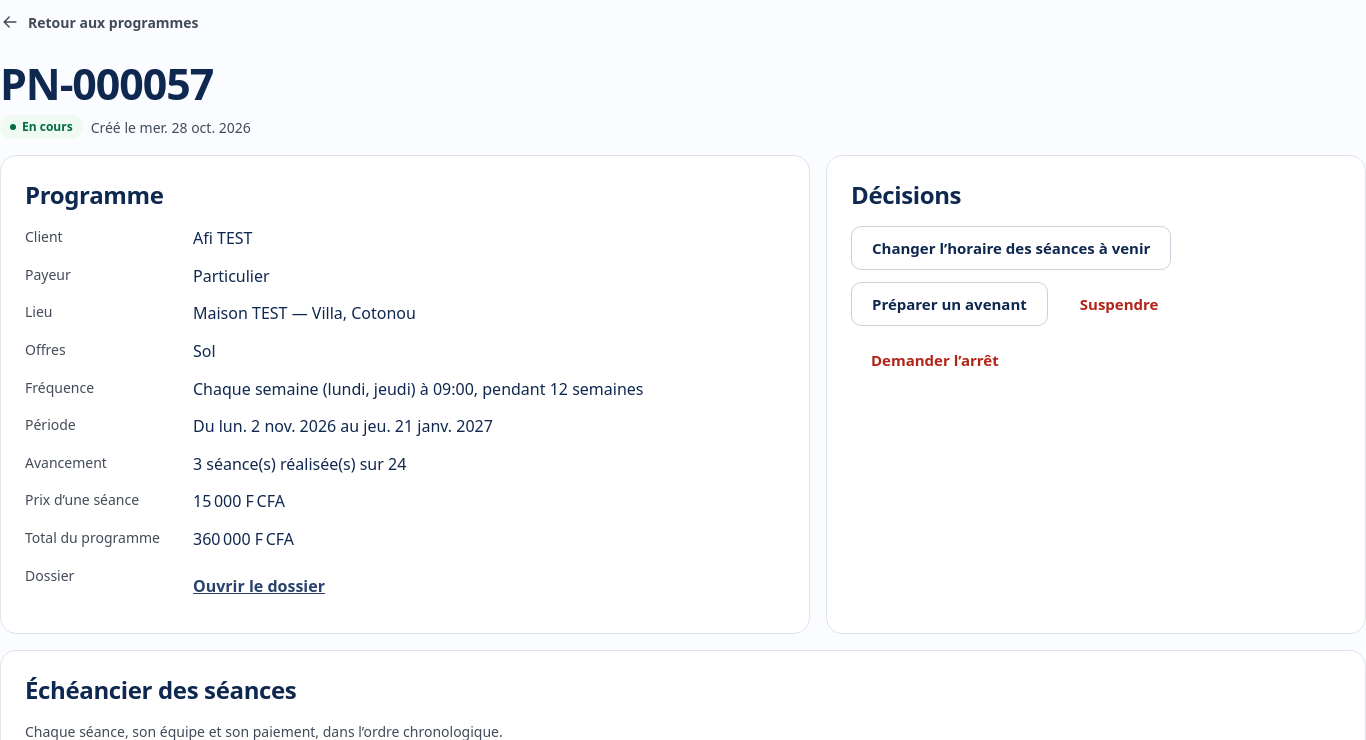
Test: programmes : décisions › suspension confirmée avec motif ; nouvel essai avec la même clé
This screenshot has width=1366, height=740.
Click the button "Suspendre".
click(1119, 304)  # box [1060, 282, 1178, 326]
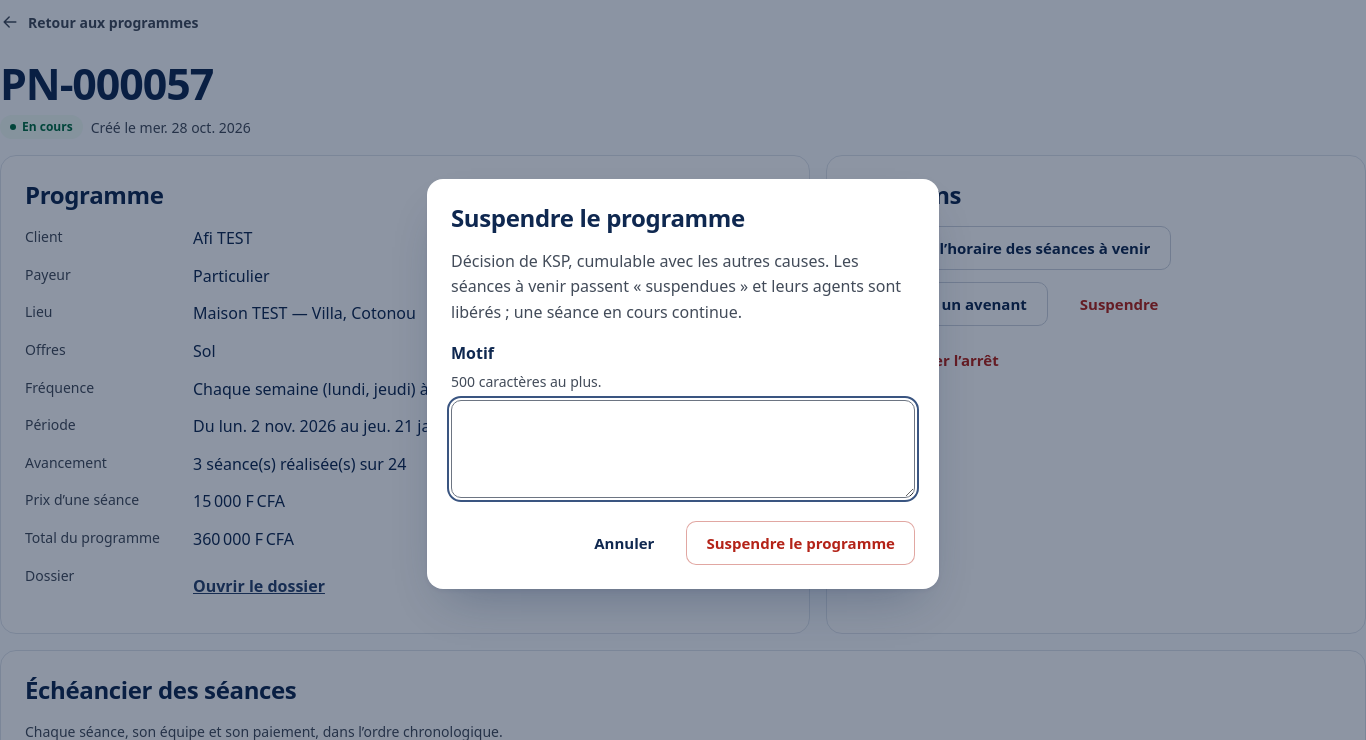
Click the button "Suspendre le programme".
click(801, 544)  # box [686, 522, 915, 566]
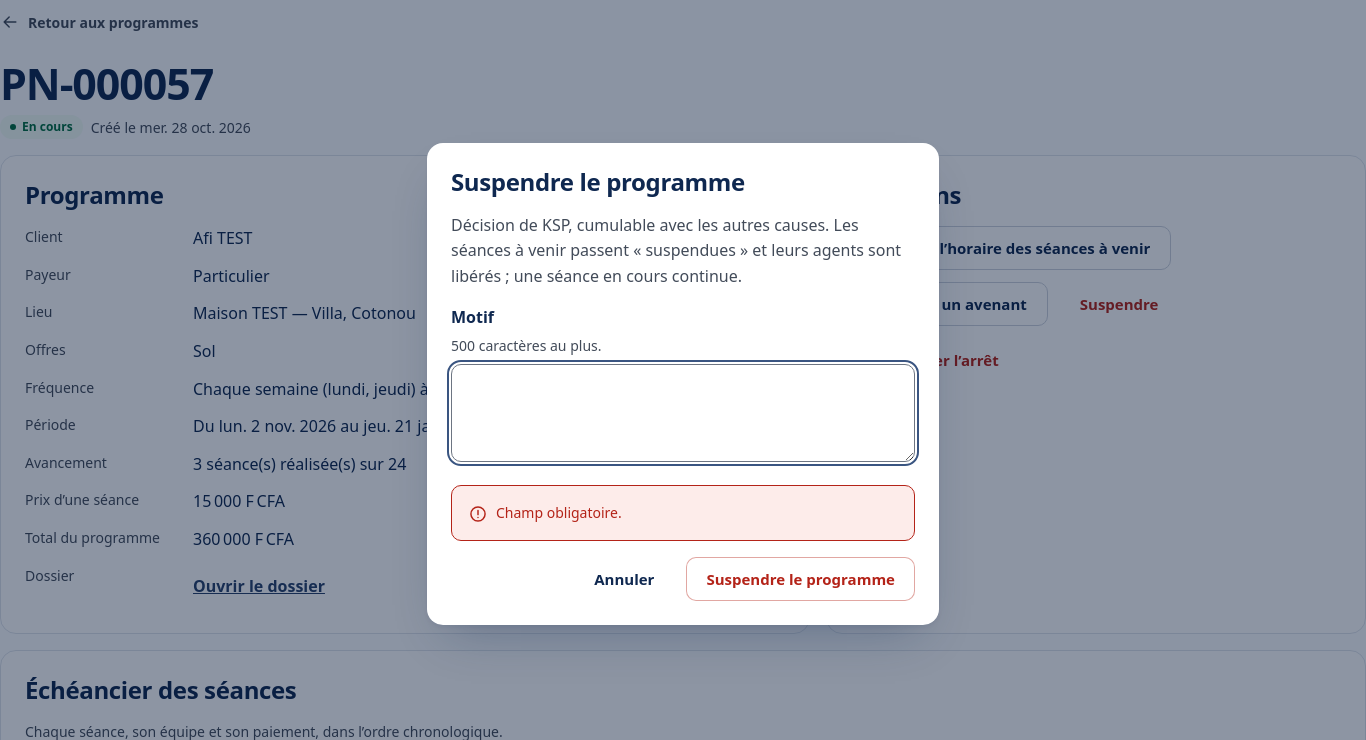
Now the text "Champ obligatoire." is shown, box [496, 502, 622, 524]
Type "Client injoignable" into the text box labelled "Motif".
click(683, 413); type("Client injoignable")  # box [451, 364, 915, 462]
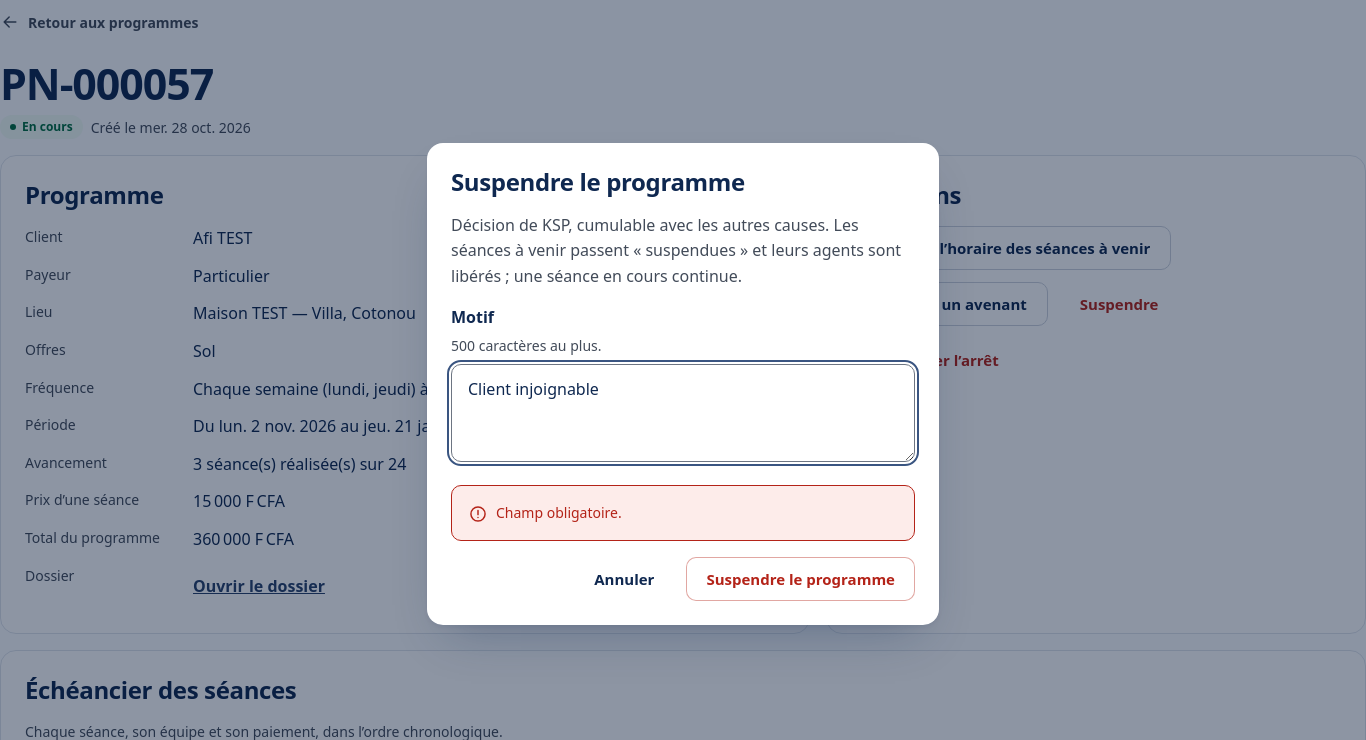
Click the button "Suspendre le programme".
click(801, 580)  # box [686, 558, 915, 602]
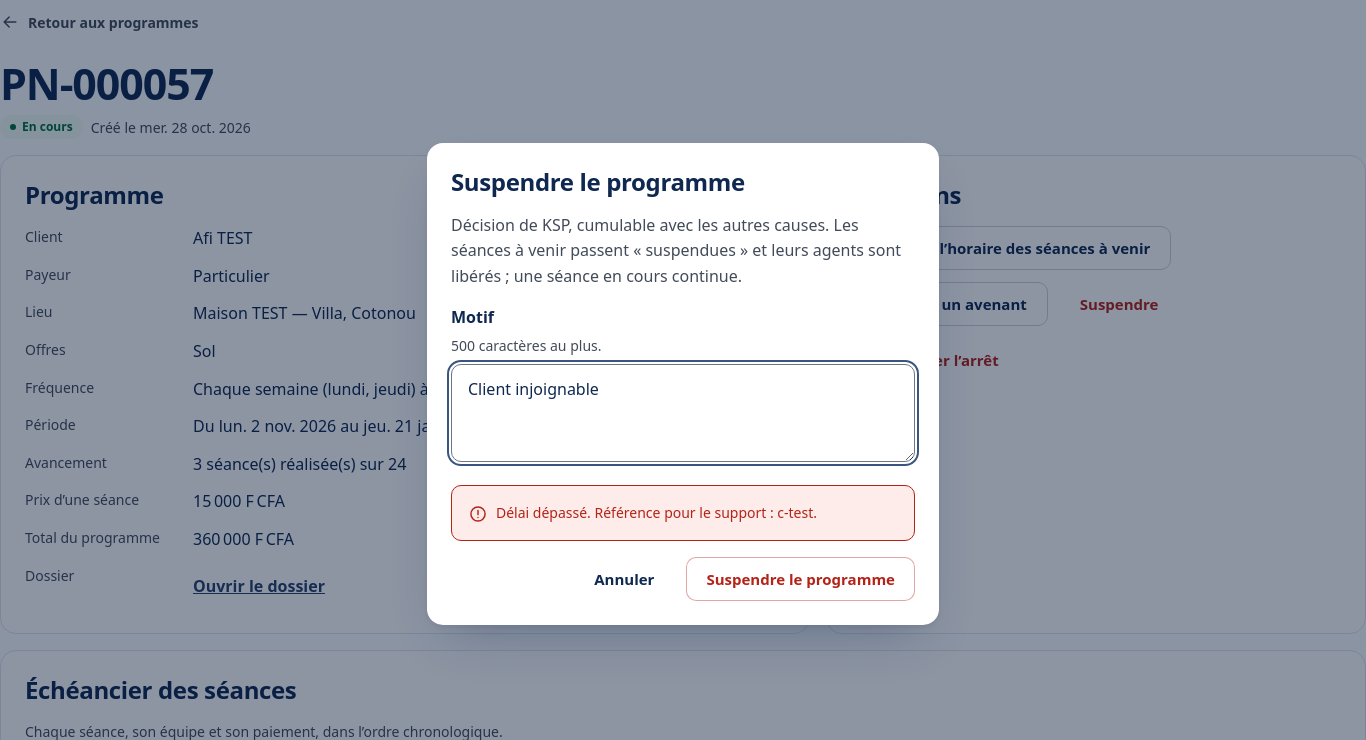
Now the text "Délai dépassé. Référence pour le support : c-test." is shown, box [496, 502, 817, 524]
Click the button "Suspendre le programme".
click(801, 580)  # box [686, 558, 915, 602]
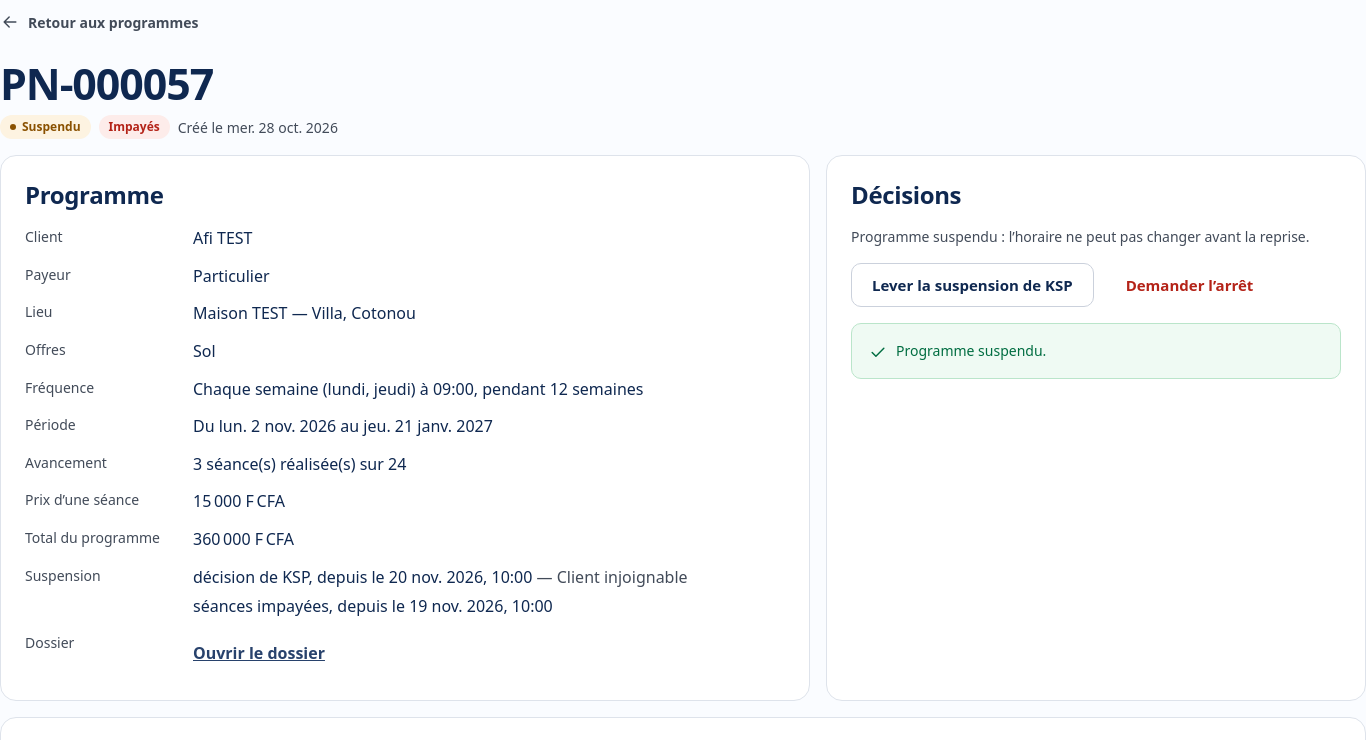
Now the text "Programme suspendu." is shown, box [896, 340, 1046, 361]
Now the button "Lever la suspension de KSP" is shown, box [851, 263, 1094, 307]
Now the button "Changer l’horaire des séances à venir" is gone
